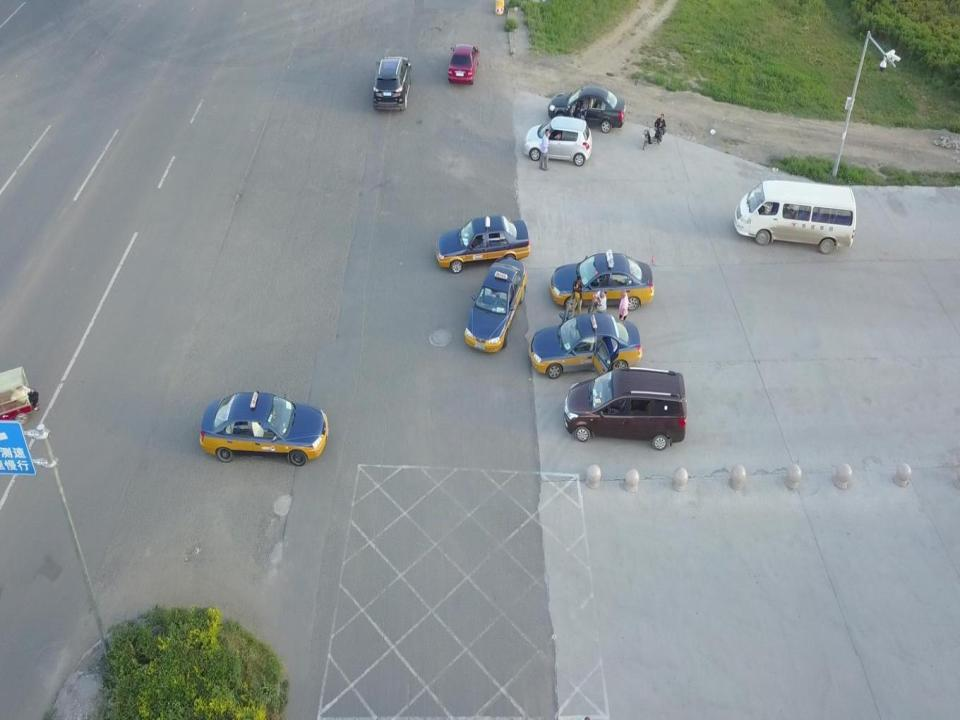car: (200, 392, 329, 464), (530, 312, 642, 376), (549, 250, 654, 312), (464, 257, 528, 353), (435, 216, 531, 273), (548, 84, 625, 132), (523, 115, 592, 166), (372, 56, 412, 111), (448, 43, 480, 85)
van: (564, 367, 686, 450), (734, 179, 856, 253)
